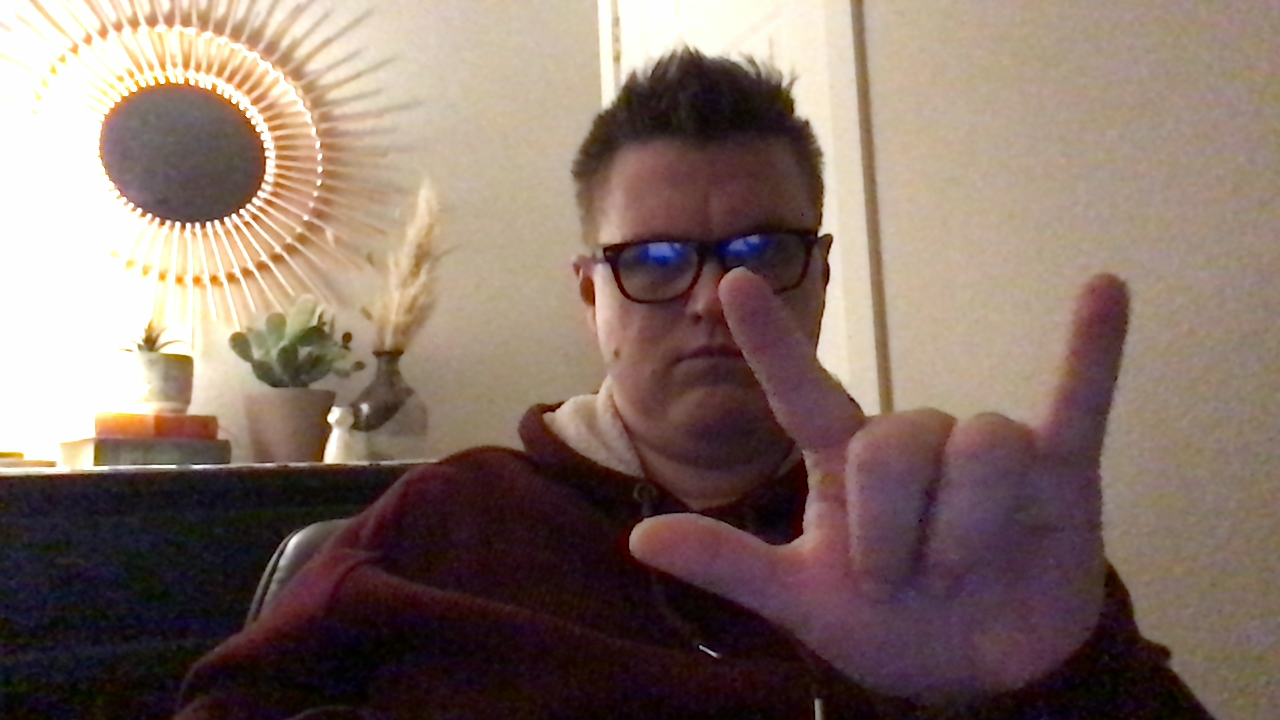iloveyou: (626, 260, 1166, 691)
